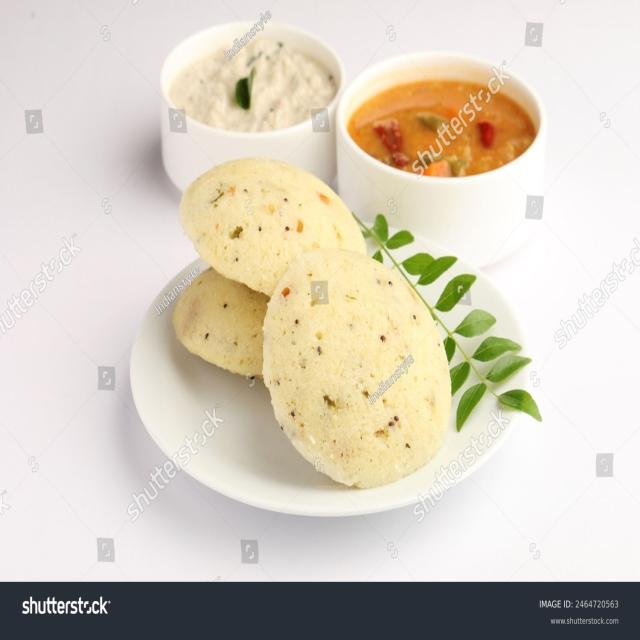IDLI: (169, 155, 452, 489)
